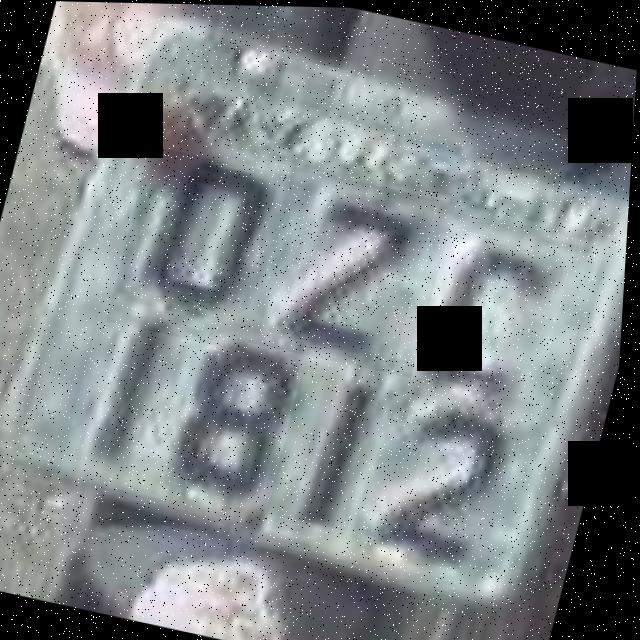1: (271, 339, 447, 541), (63, 295, 218, 500)
2: (351, 354, 569, 574)
B: (145, 308, 359, 526)
C: (395, 197, 584, 401)
O: (108, 144, 294, 351)
Z: (251, 166, 460, 378)
